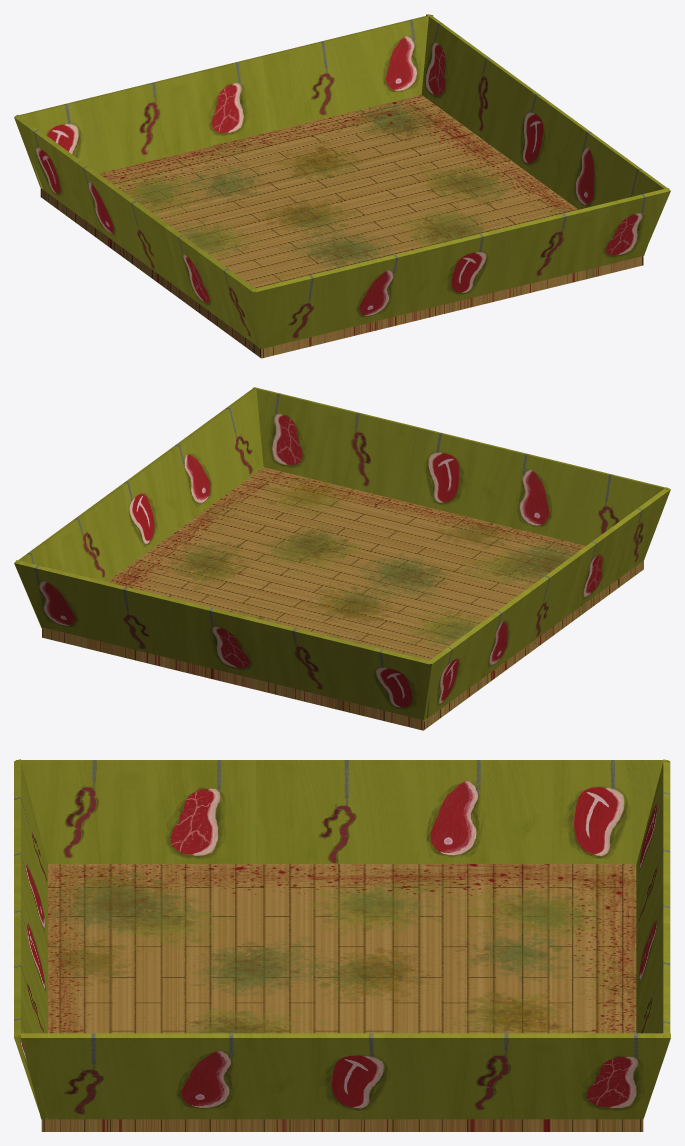
File: Mapa_Boss_Fome.fbx
3 renders of one model, top to bottom at view 1: azimuth 30°, elevation 25°; view 2: azimuth 150°, elevation 25°; view 3: azimuth 270°, elevation 25°, orthographic. The views are drawn at different scales.
Parts seen in each view (by area): view 1: Piso, Parede, Parede.001, Parede.002, Parede.003; view 2: Piso, Parede.001, Parede, Parede.002, Parede.003; view 3: Piso, Parede.003, Parede.002, Parede.001, Parede.
Part boxes in pixels (x1,y1,x2,y2): Piso: [40, 95, 643, 358]; Parede: [15, 15, 433, 188]; Parede.001: [252, 188, 670, 348]; Parede.002: [421, 14, 666, 255]; Parede.003: [14, 114, 260, 348]; Piso: [42, 467, 643, 730]; Parede.001: [252, 387, 668, 560]; Parede: [14, 560, 432, 720]; Parede.002: [14, 389, 263, 628]; Parede.003: [423, 487, 670, 721]; Piso: [41, 864, 643, 1131]; Parede.003: [15, 760, 669, 863]; Parede.002: [20, 1033, 670, 1119]; Parede.001: [14, 759, 48, 1118]; Parede: [636, 759, 670, 1037].
Size of the model in its own units: 18.58 by 3.35 by 18.56.
Materials: 2 (2 with a texture image).
